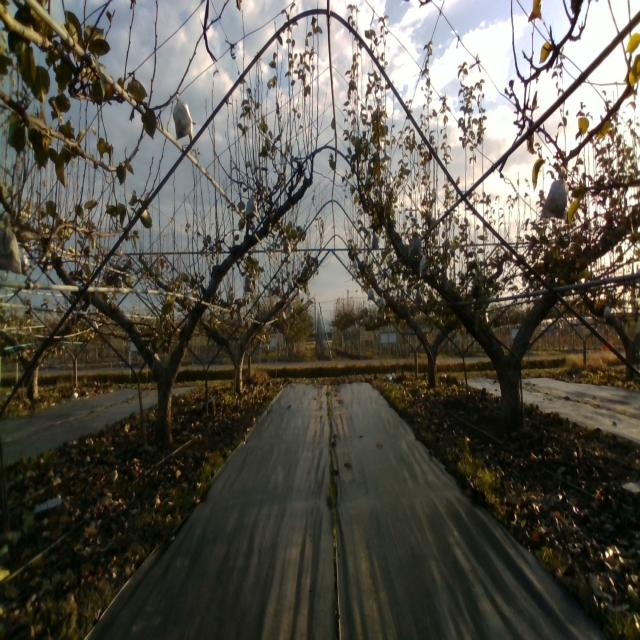pearbags: (539, 168, 569, 220), (172, 93, 194, 142), (245, 191, 260, 221), (408, 232, 422, 258), (419, 257, 430, 278), (244, 275, 254, 293)
